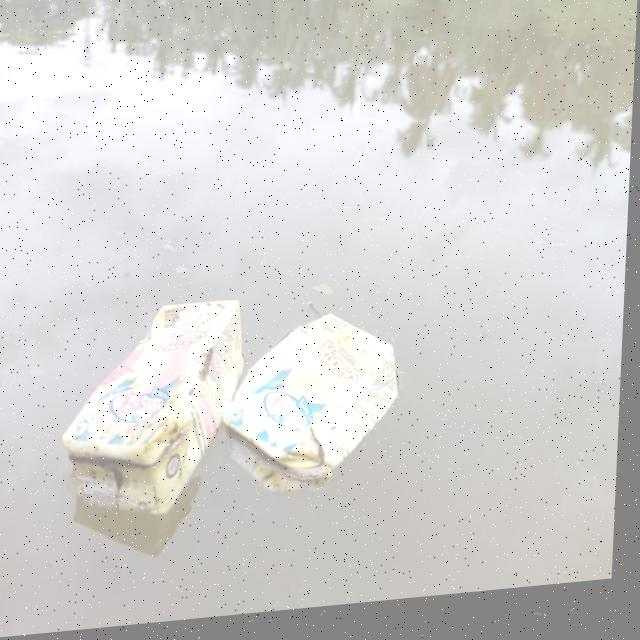paper: (51, 293, 241, 517), (231, 300, 418, 499)
